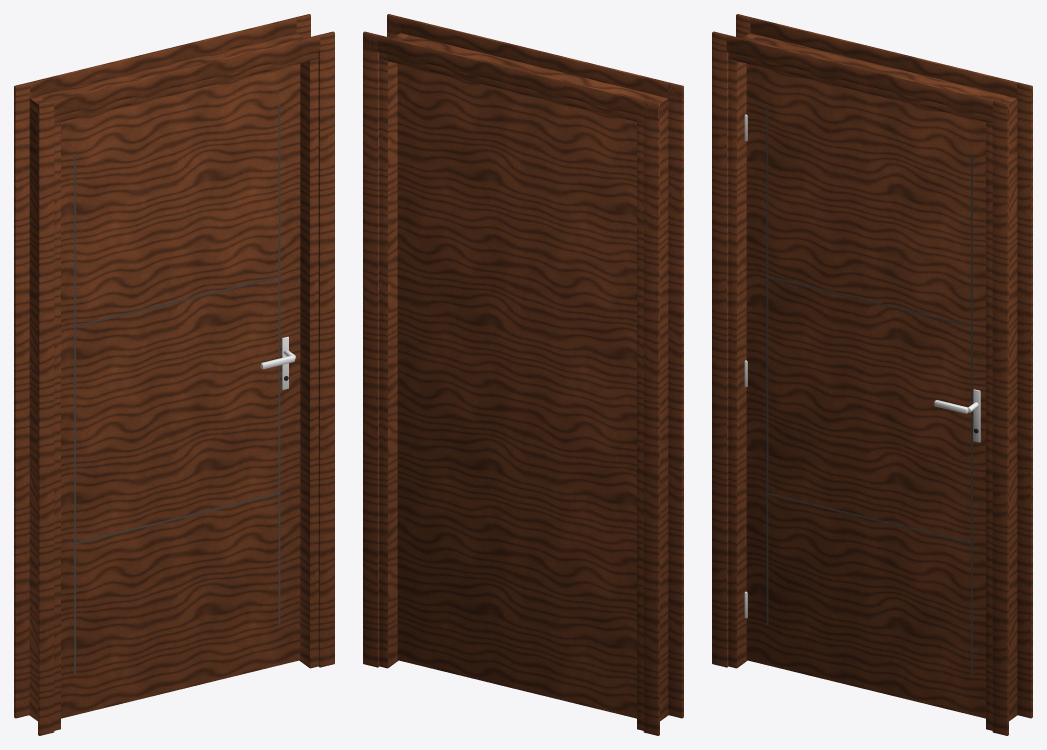
The model's file is ESQ-PMD-003.glb.
3 renders of one model, left to right at view 1: azimuth 30°, elevation 25°; view 2: azimuth 150°, elevation 25°; view 3: azimuth 330°, elevation 25°, orthographic.
Parts seen in each view (by area): view 1: ESQ-PMD-003_folha, ESQ-PMD-003_batente_d, ESQ-PMD-003_guarnicao_e-1, ESQ-PMD-003_guarnicao_d-1, ESQ-PMD-003_guarnicao_e1, ESQ-PMD-003_batente_e, ESQ-PMD-003_guarnicao_c-1, ESQ-PMD-003_guarnicao_c1, ESQ-PMD-003_batente_c, ESQ-PMD-003_friso_v1, ESQ-PMD-003_friso_v-1; view 2: ESQ-PMD-003_folha, ESQ-PMD-003_batente_d, ESQ-PMD-003_guarnicao_d1, ESQ-PMD-003_guarnicao_e1, ESQ-PMD-003_guarnicao_e-1, ESQ-PMD-003_batente_e, ESQ-PMD-003_guarnicao_c1, ESQ-PMD-003_guarnicao_c-1, ESQ-PMD-003_batente_c; view 3: ESQ-PMD-003_folha, ESQ-PMD-003_batente_e, ESQ-PMD-003_guarnicao_d-1, ESQ-PMD-003_guarnicao_e-1, ESQ-PMD-003_guarnicao_d1, ESQ-PMD-003_batente_d, ESQ-PMD-003_guarnicao_c-1, ESQ-PMD-003_guarnicao_c1, ESQ-PMD-003_batente_c, ESQ-PMD-003_friso_v-1, ESQ-PMD-003_friso_v1.
Part boxes in pixels (x1=…): ESQ-PMD-003_folha: x1=61, y1=63, x2=300, y2=718; ESQ-PMD-003_batente_d: x1=289, y1=33, x2=318, y2=668; ESQ-PMD-003_guarnicao_e-1: x1=38, y1=100, x2=54, y2=735; ESQ-PMD-003_guarnicao_d-1: x1=318, y1=31, x2=334, y2=667; ESQ-PMD-003_guarnicao_e1: x1=14, y1=82, x2=29, y2=718; ESQ-PMD-003_batente_e: x1=29, y1=96, x2=60, y2=730; ESQ-PMD-003_guarnicao_c-1: x1=38, y1=35, x2=320, y2=118; ESQ-PMD-003_guarnicao_c1: x1=14, y1=17, x2=296, y2=101; ESQ-PMD-003_batente_c: x1=29, y1=35, x2=318, y2=123; ESQ-PMD-003_friso_v1: x1=278, y1=104, x2=280, y2=624; ESQ-PMD-003_friso_v-1: x1=74, y1=154, x2=75, y2=674; ESQ-PMD-003_folha: x1=397, y1=63, x2=636, y2=718; ESQ-PMD-003_batente_d: x1=379, y1=33, x2=408, y2=668; ESQ-PMD-003_guarnicao_d1: x1=363, y1=31, x2=379, y2=667; ESQ-PMD-003_guarnicao_e1: x1=643, y1=100, x2=659, y2=735; ESQ-PMD-003_guarnicao_e-1: x1=668, y1=82, x2=683, y2=718; ESQ-PMD-003_batente_e: x1=637, y1=96, x2=668, y2=730; ESQ-PMD-003_guarnicao_c1: x1=363, y1=33, x2=659, y2=119; ESQ-PMD-003_guarnicao_c-1: x1=387, y1=15, x2=683, y2=101; ESQ-PMD-003_batente_c: x1=379, y1=35, x2=668, y2=122; ESQ-PMD-003_folha: x1=746, y1=63, x2=985, y2=718; ESQ-PMD-003_batente_e: x1=728, y1=33, x2=757, y2=668; ESQ-PMD-003_guarnicao_d-1: x1=992, y1=100, x2=1008, y2=735; ESQ-PMD-003_guarnicao_e-1: x1=712, y1=31, x2=728, y2=667; ESQ-PMD-003_guarnicao_d1: x1=1017, y1=82, x2=1032, y2=718; ESQ-PMD-003_batente_d: x1=986, y1=96, x2=1017, y2=730; ESQ-PMD-003_guarnicao_c-1: x1=726, y1=35, x2=1008, y2=119; ESQ-PMD-003_guarnicao_c1: x1=750, y1=17, x2=1032, y2=101; ESQ-PMD-003_batente_c: x1=728, y1=35, x2=1007, y2=123; ESQ-PMD-003_friso_v-1: x1=766, y1=104, x2=768, y2=624; ESQ-PMD-003_friso_v1: x1=971, y1=154, x2=972, y2=674.
Bounding box in the file's own units: 1.07 × 2.18 × 0.1655.
4 materials, 1 textured.
